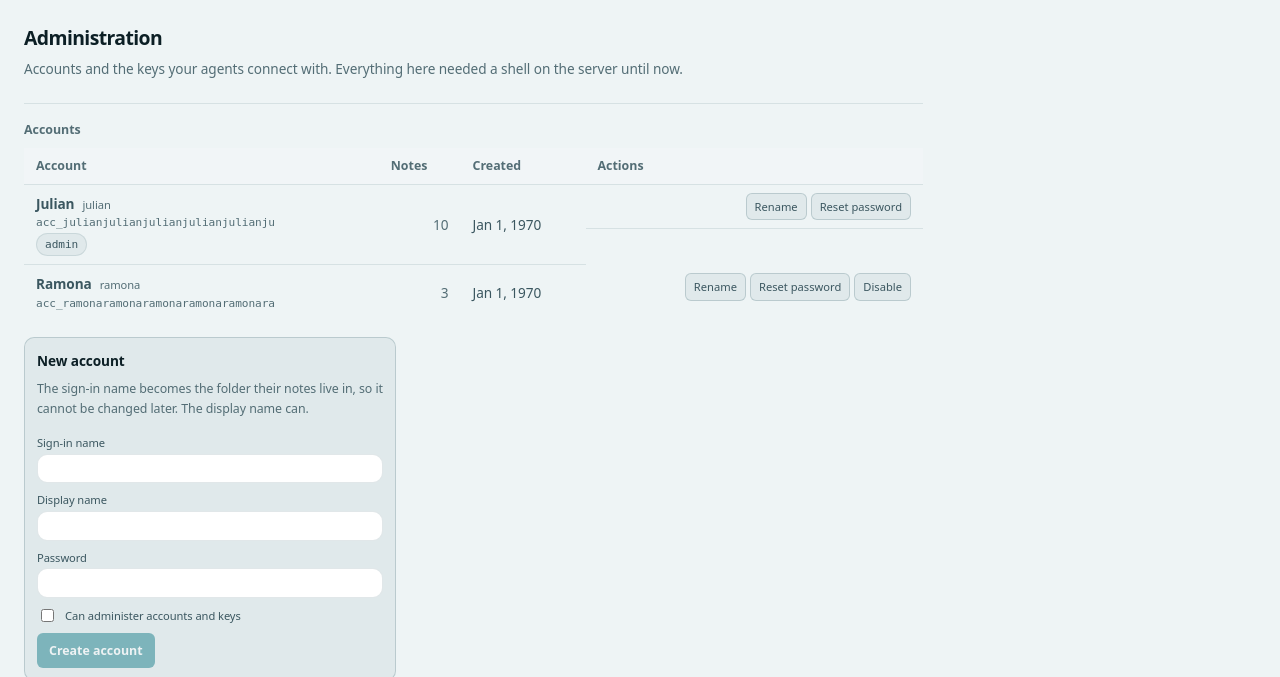
Test: the control › sends the trimmed name and closes
Click the button "Rename" in the row of "acc_ramonaramonaramonaramonaramonara" at (715,287), box [685, 273, 746, 300]
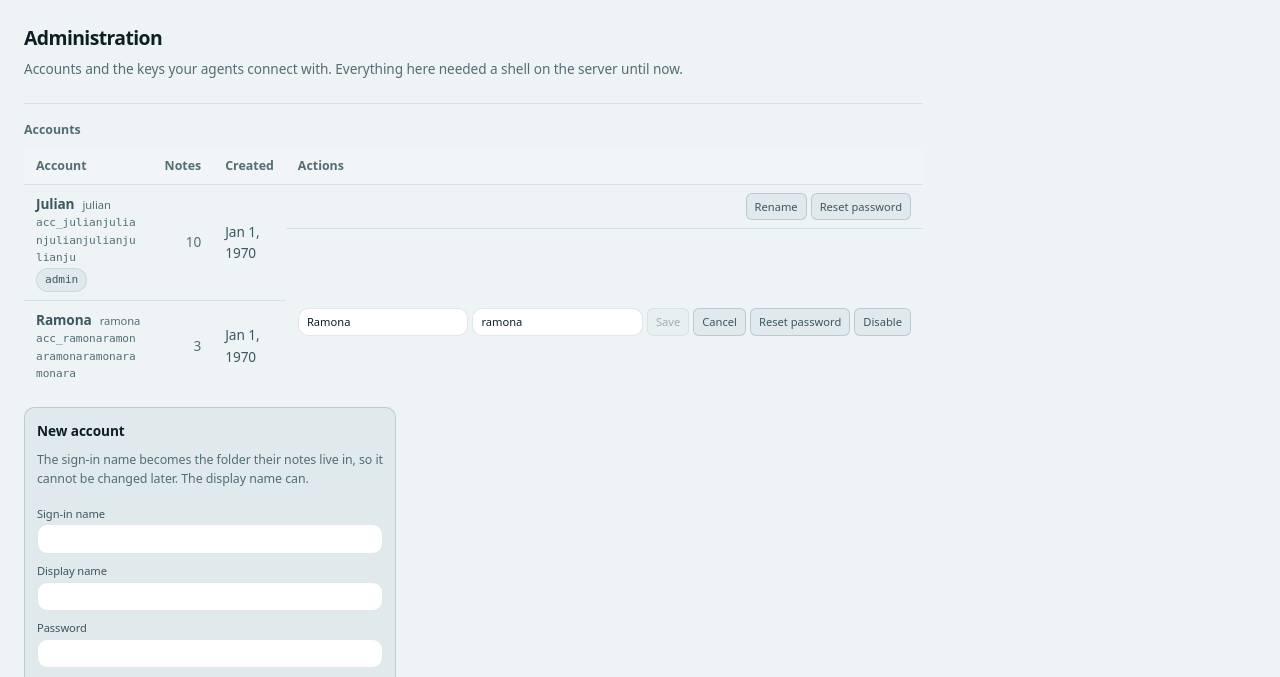
Replace the text in the field named "Display name for ramona" with "  Ramona Bachmann  " at (383,322), box [298, 308, 468, 336]
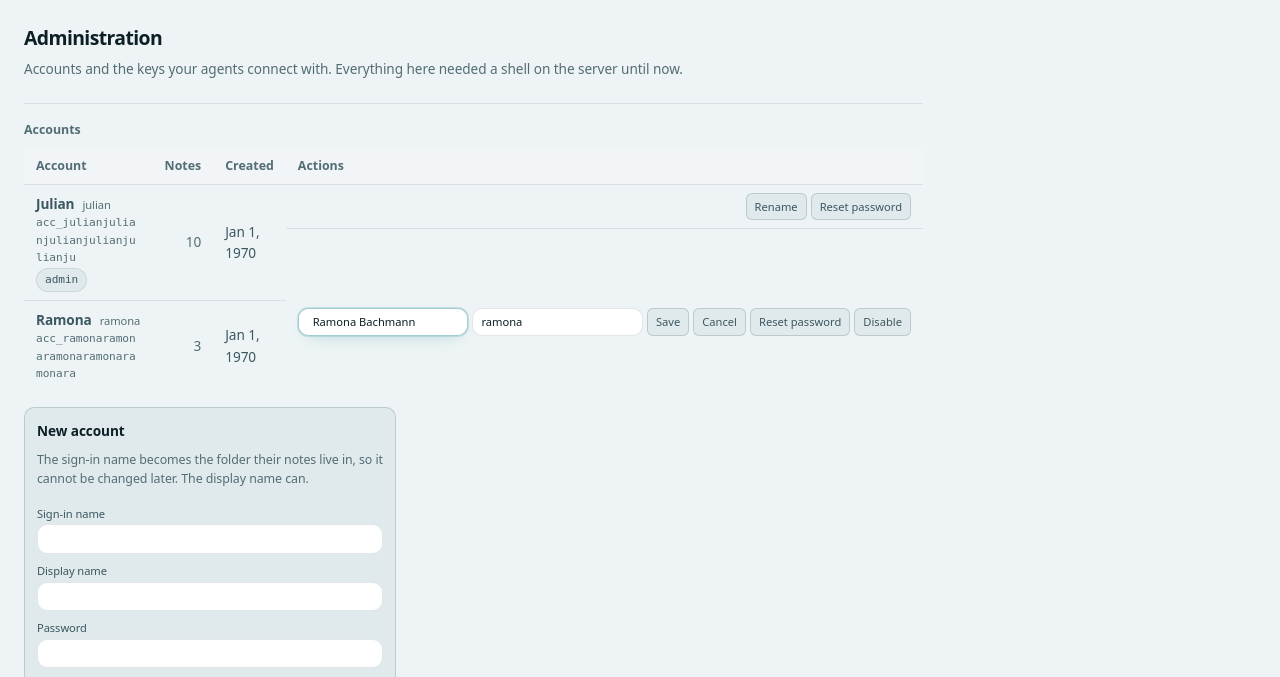
Click the button "Save" at (668,322), box [647, 308, 689, 336]
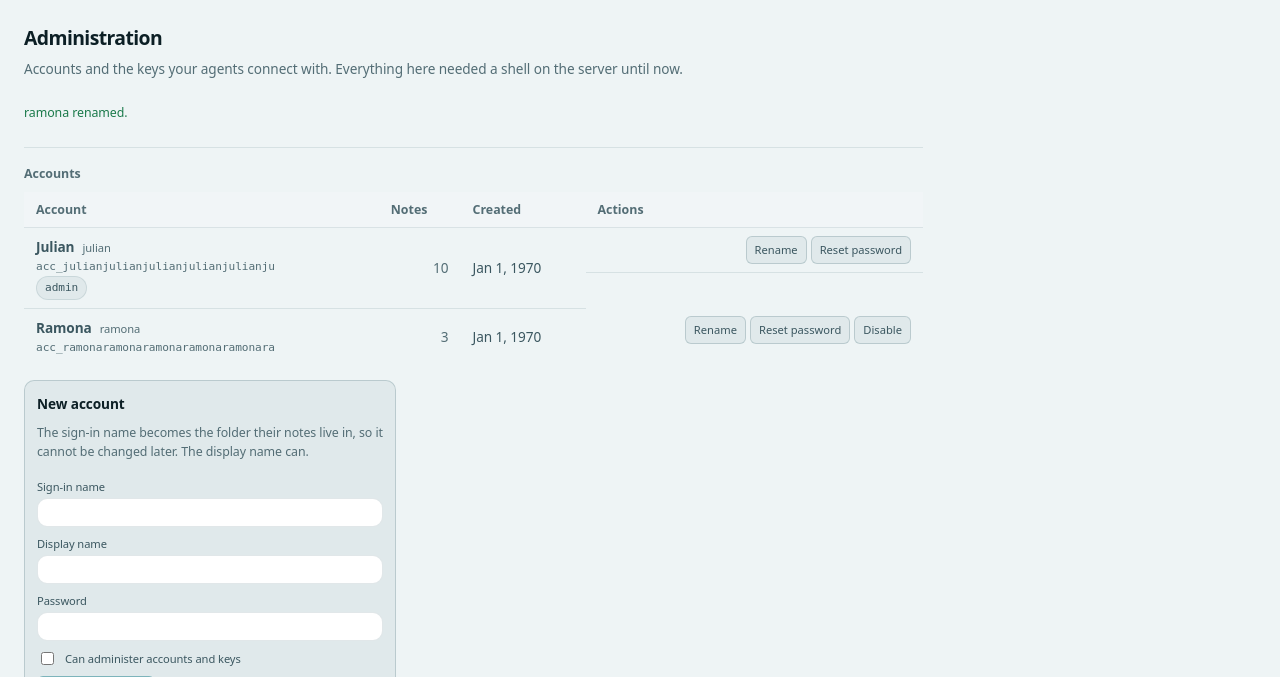
Expected: the button "Save" is gone
